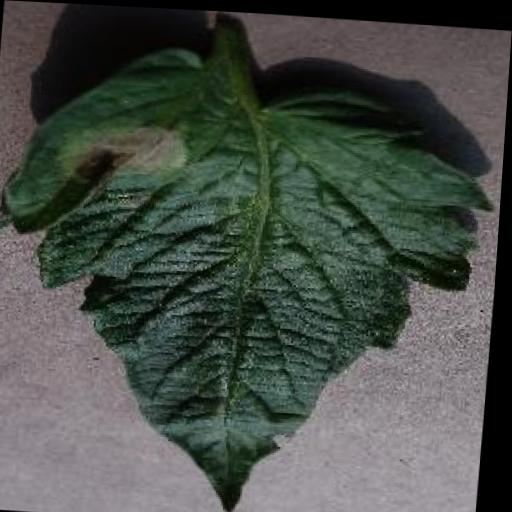Late Blight: (0, 39, 504, 512)
